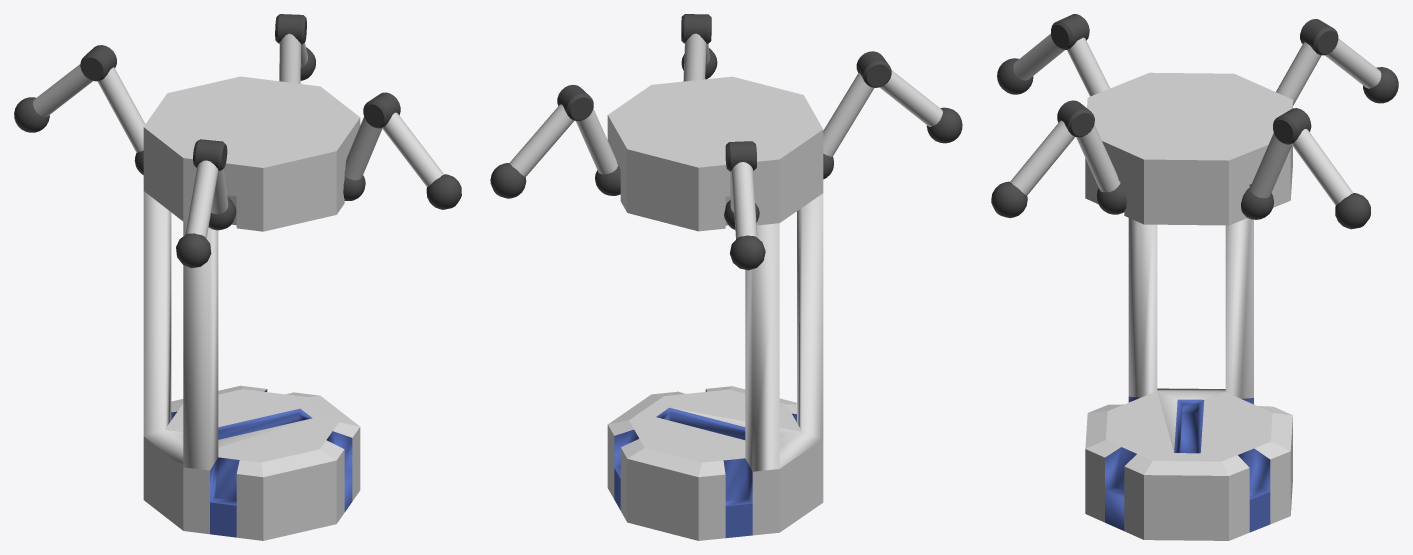
Rendered from 3D-Printer.fbx.
3 renders of one model, left to right at view 1: azimuth 30°, elevation 25°; view 2: azimuth 150°, elevation 25°; view 3: azimuth 270°, elevation 25°, orthographic. The views are drawn at different scales.
Visible parts, largest first — view 1: Head, Base; view 2: Head, Base; view 3: Head, Base.
Part boxes in pixels (x1,y1,x2,y2): Head: (14,14,461,268); Base: (143,191,360,540); Head: (490,14,962,270); Base: (607,193,823,540); Head: (991,14,1398,229); Base: (1085,218,1292,540).
Bounding box in the file's own units: 151 × 202 × 174.
